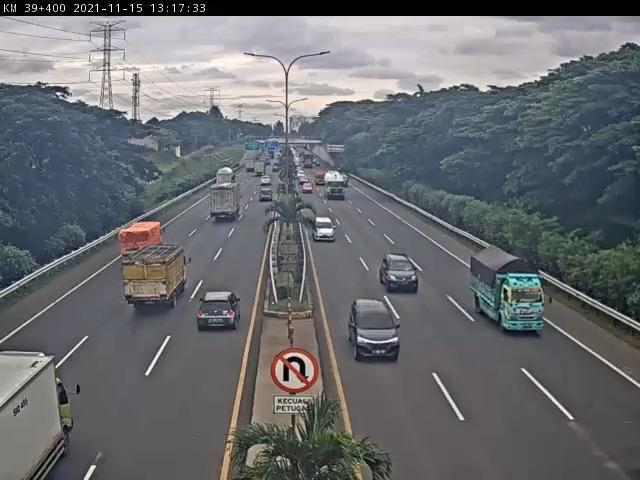car: (348, 296, 402, 366), (195, 290, 241, 336), (383, 251, 420, 295), (312, 215, 339, 247), (257, 189, 275, 206), (260, 174, 275, 188), (302, 183, 316, 195)
truck: (473, 246, 546, 336), (126, 245, 189, 307), (117, 214, 170, 264), (211, 183, 240, 223), (322, 169, 349, 202)
